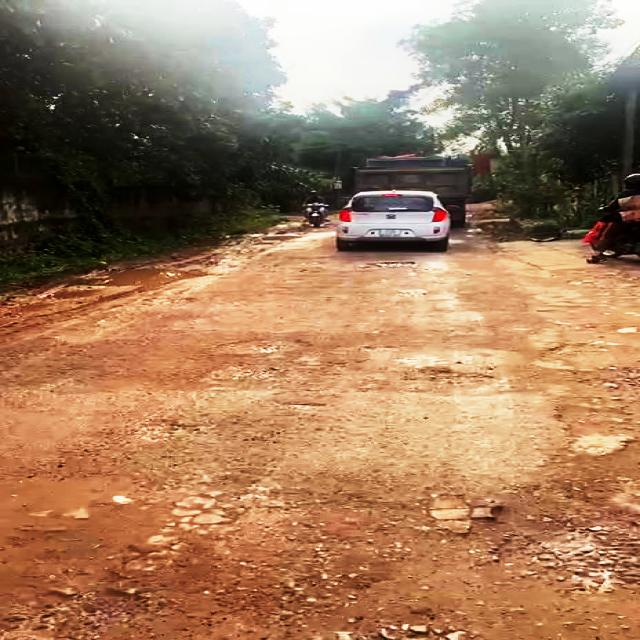pothole: (536, 343, 640, 501), (503, 499, 640, 597), (0, 566, 163, 640), (203, 336, 323, 358), (393, 367, 501, 388), (138, 416, 192, 441), (359, 258, 419, 271)
